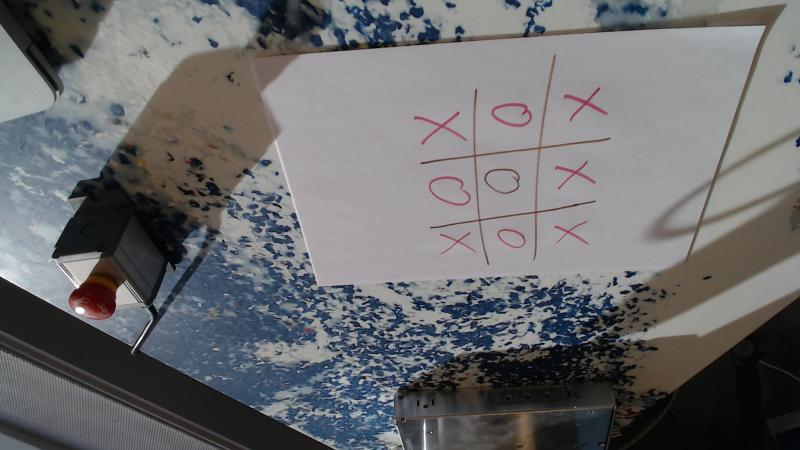O: (491, 96, 538, 140), (478, 166, 526, 206), (428, 174, 472, 214), (494, 224, 530, 258)
X: (418, 105, 469, 159), (561, 94, 607, 133), (546, 215, 594, 251), (551, 163, 593, 200), (436, 230, 479, 262)
grid: (418, 58, 598, 267)
